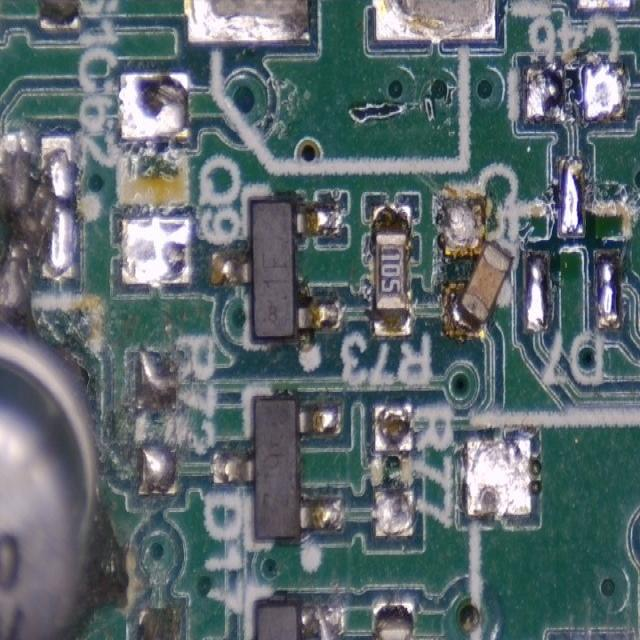Incorrect_installation: (211, 199, 341, 345), (442, 196, 513, 338)
